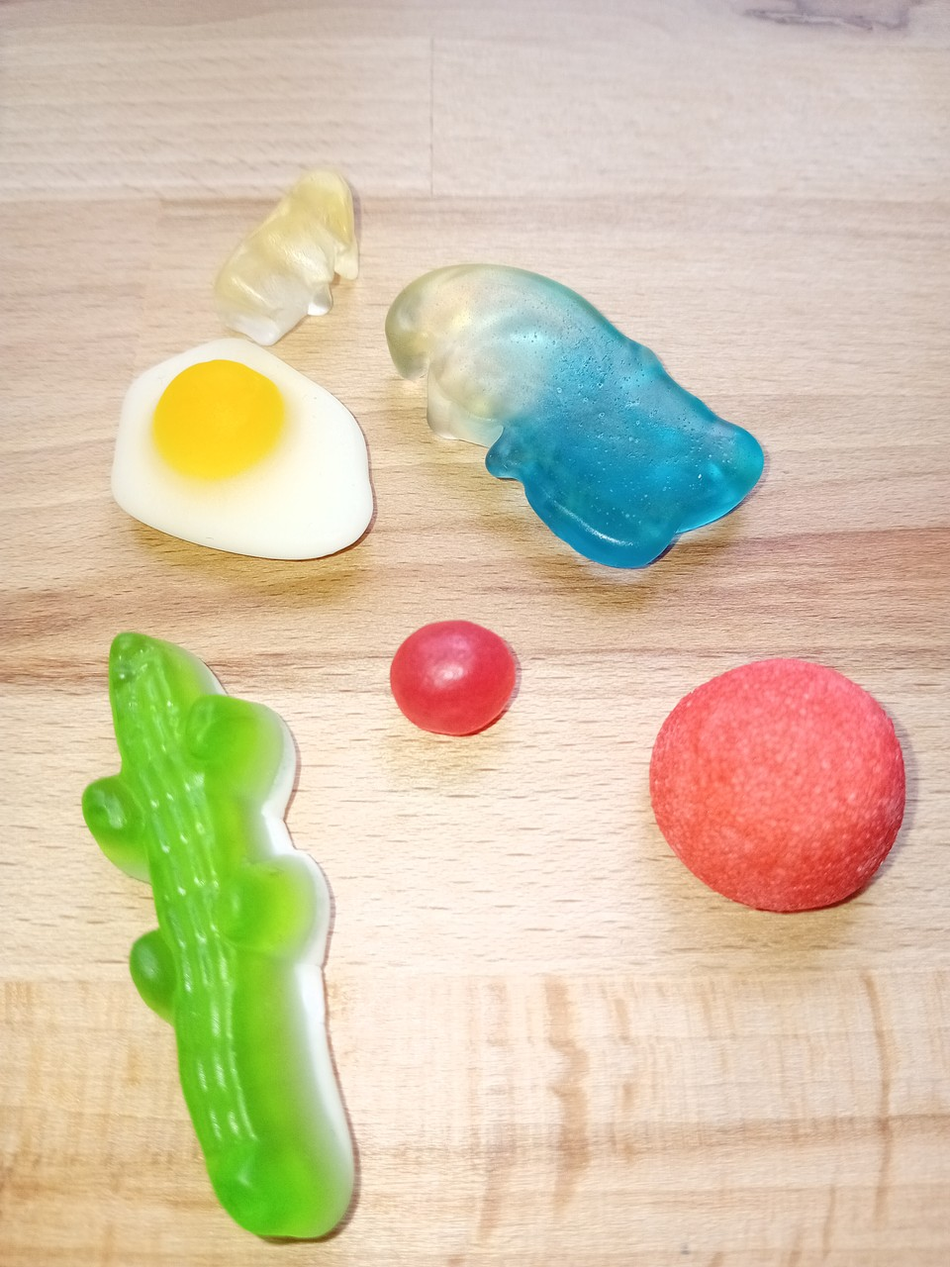crocodile_vert: (76, 623, 365, 1244)
dragibus_rouge: (385, 608, 524, 747)
oeuf_oeuf: (97, 331, 378, 563)
ourson_blanc: (212, 167, 372, 346)
schtroumpf_bleu-blanc: (376, 259, 774, 576)
tagada_fraise: (642, 650, 914, 920)
